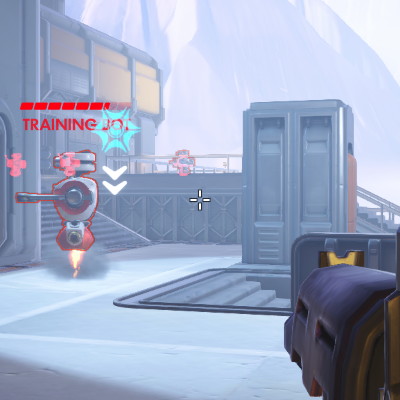hpbar: (19, 101, 132, 111)
